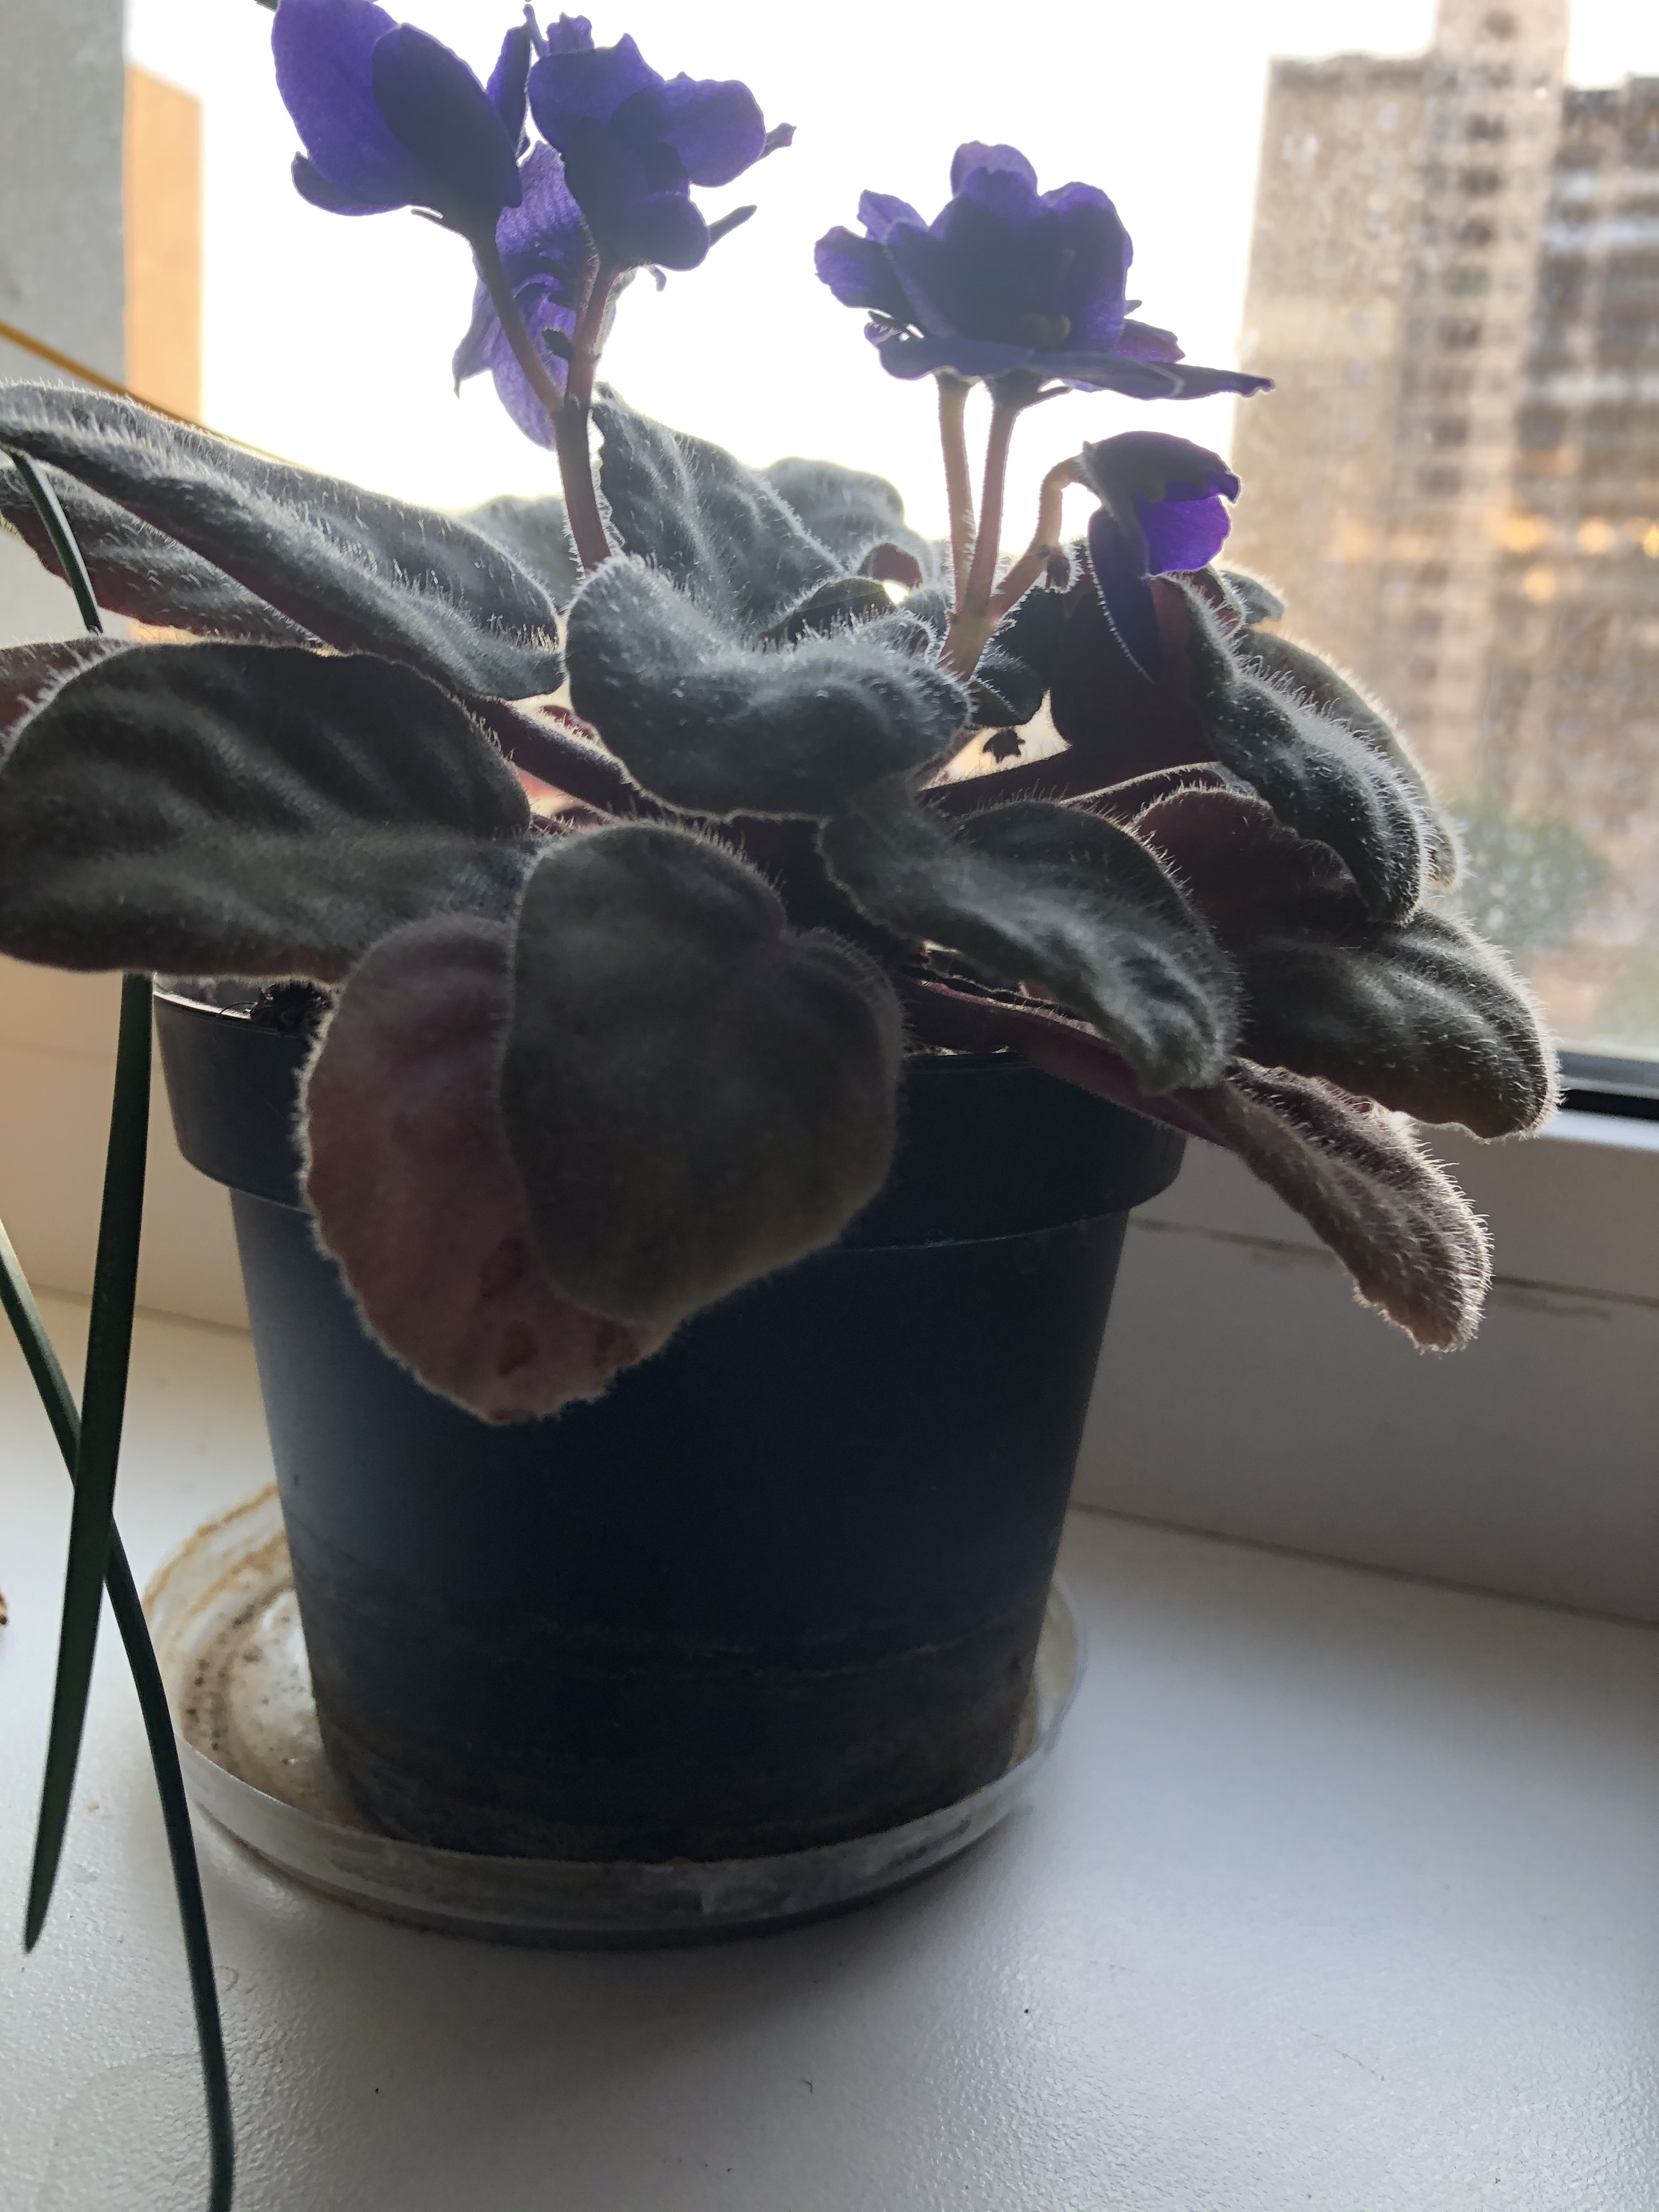ignore: (31, 23, 1563, 1392)
